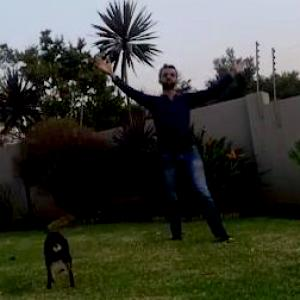takeoff: (104, 66, 241, 232)
